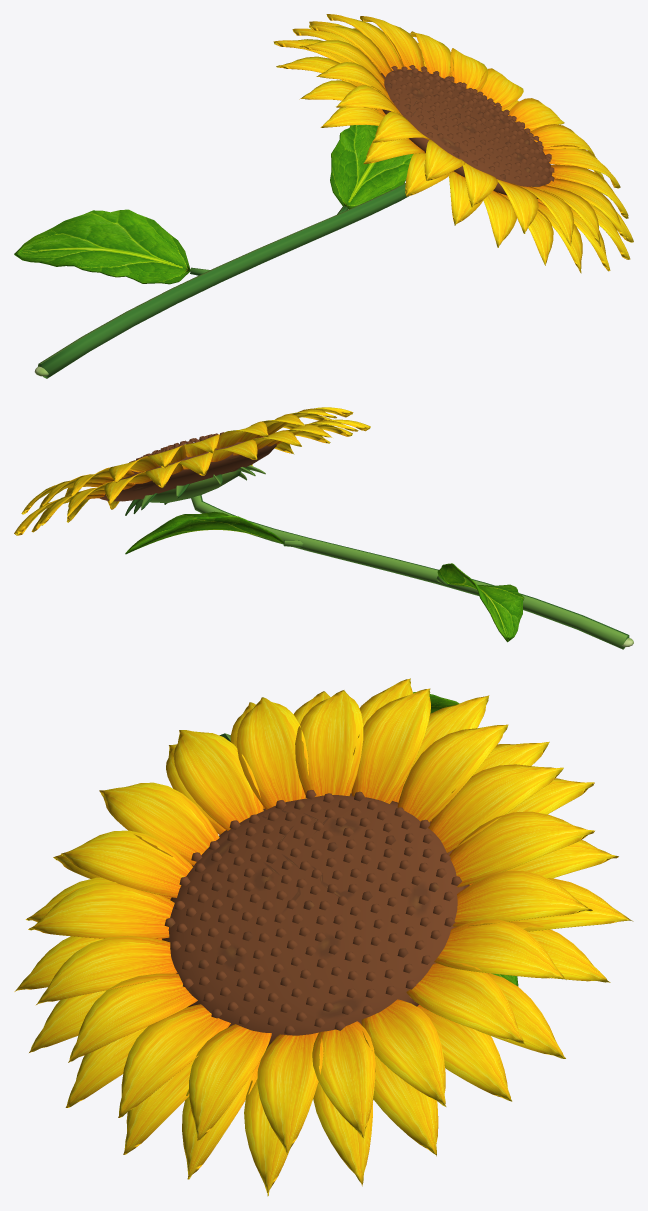
The model's file is NP_Sunflower_Harvest.fbx.
3 renders of one model, top to bottom at view 1: azimuth 30°, elevation 25°; view 2: azimuth 150°, elevation 25°; view 3: azimuth 270°, elevation 25°, orthographic. The views are drawn at different scales.
Visible parts, largest first — view 1: NP_Sunflower_Harvest; view 2: NP_Sunflower_Harvest; view 3: NP_Sunflower_Harvest.
Boxes of the visible parts, <box> form: NP_Sunflower_Harvest: <box>14,14,633,378</box>; NP_Sunflower_Harvest: <box>14,407,633,649</box>; NP_Sunflower_Harvest: <box>14,678,633,1196</box>.
Size of the model in its own units: 64.13 by 20.47 by 36.92.
